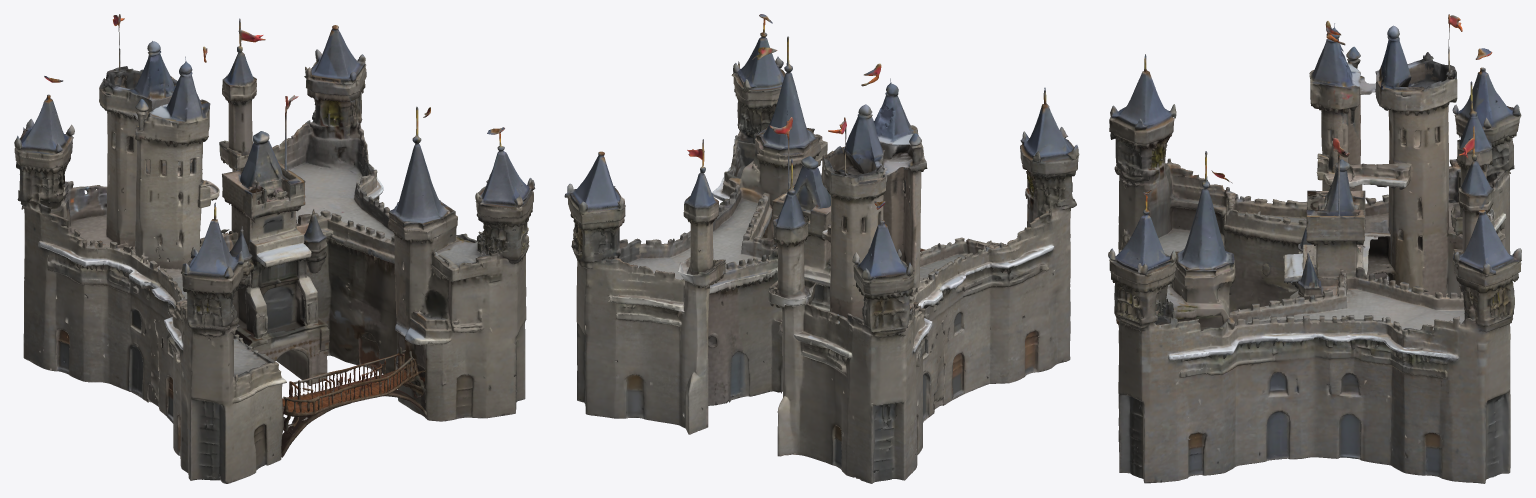
Rendered from Meshy_AI_castle_0222000456_texture.glb.
3 views of the same model, side by side, from view 1: azimuth 30°, elevation 25°; view 2: azimuth 150°, elevation 25°; view 3: azimuth 270°, elevation 25° (orthographic). The views are drawn at different scales.
Bounding box in the file's own units: 1.99 × 1.85 × 1.99.
1 material, 1 textured.
